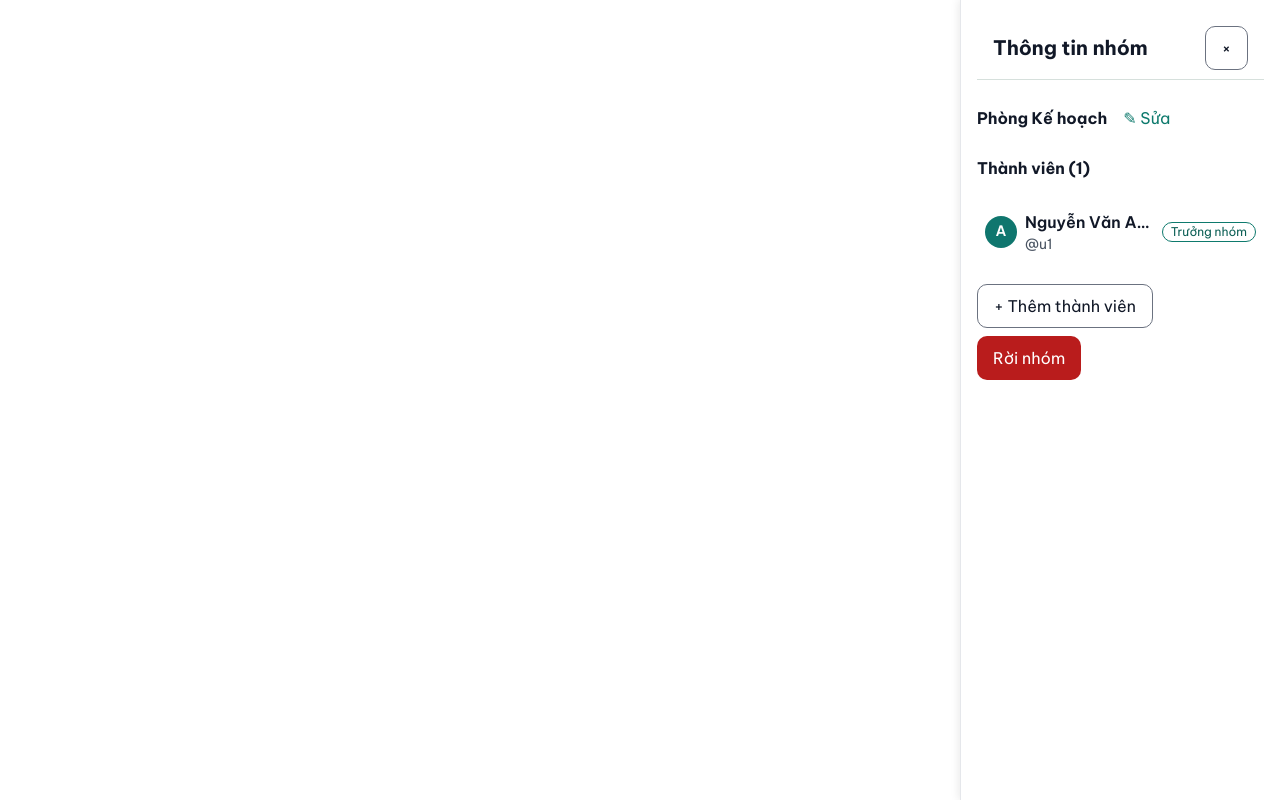
Test: SC-06 / SC-06b theo vai trò › trưởng nhóm một mình: M-28 và nút Rời nhóm bị khóa
Click the button "Rời nhóm": (1029, 358) [977,336,1081,380]
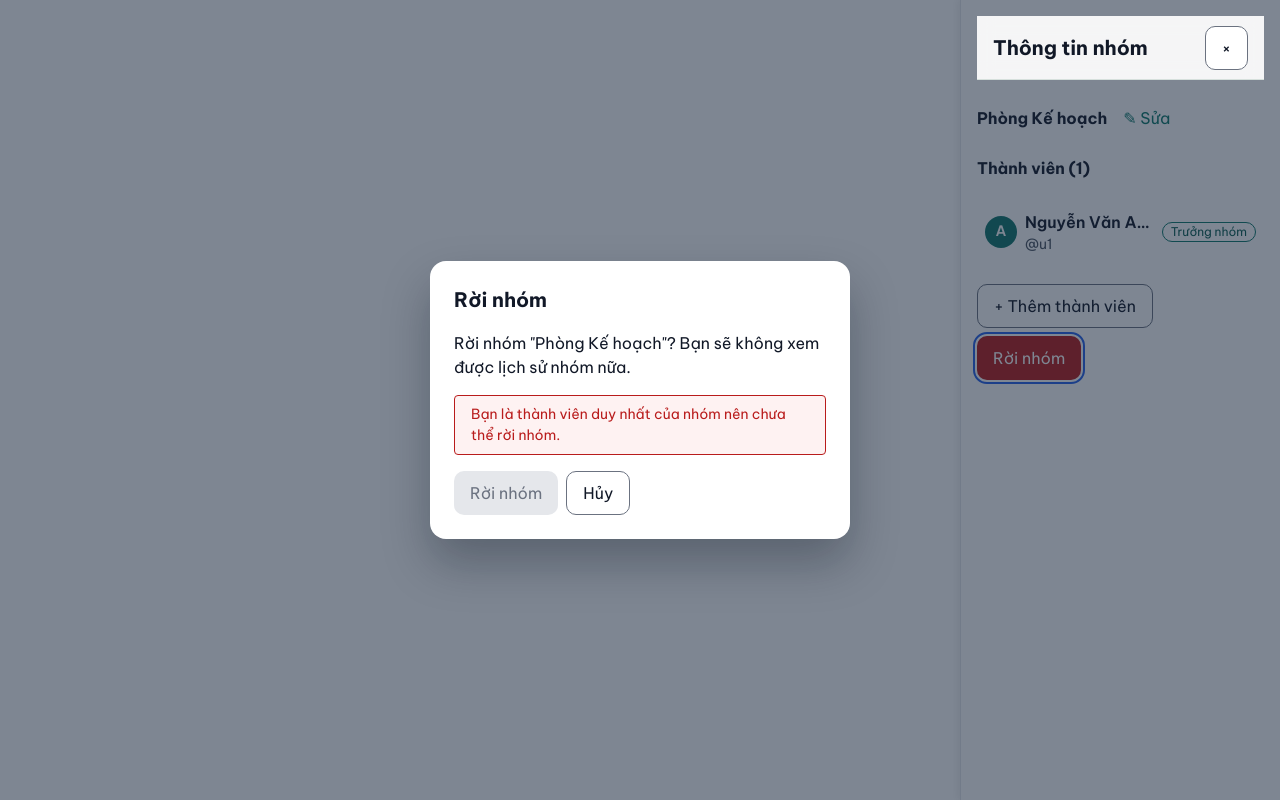
expect the text "Bạn là thành viên duy nhất của nhóm nên chưa thể rời nhóm." is shown: met, box [454,395,826,455]
expect the button "Rời nhóm" is disabled: met, box [454,471,558,515]
